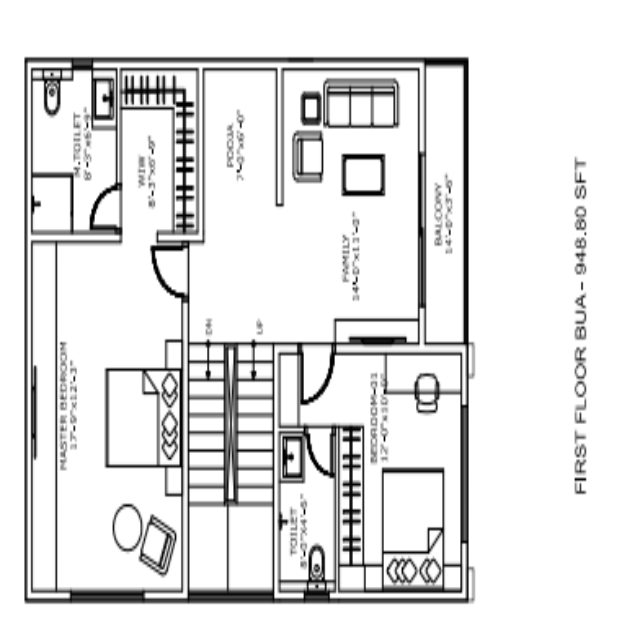door: (299, 341, 335, 407), (151, 243, 190, 301), (305, 426, 337, 481), (88, 182, 122, 233)
